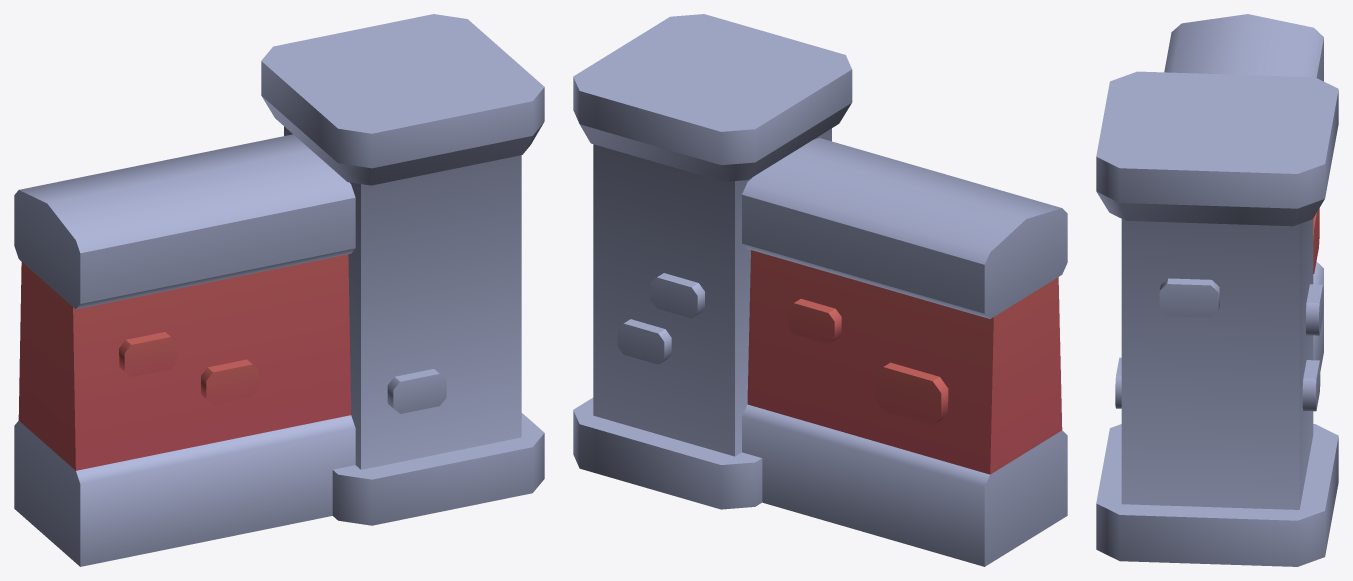
The model's file is brick-wall-end.004_lev2.glb.
3 views of the same model, side by side, from view 1: azimuth 30°, elevation 25°; view 2: azimuth 150°, elevation 25°; view 3: azimuth 270°, elevation 25° (orthographic). The views are drawn at different scales.
Visible parts, largest first — view 1: brick-wall-end.004_lev2; view 2: brick-wall-end.004_lev2; view 3: brick-wall-end.004_lev2.
Part boxes in pixels (x1,y1,x2,y2): brick-wall-end.004_lev2: (14,14,544,566); brick-wall-end.004_lev2: (573,14,1067,566); brick-wall-end.004_lev2: (1096,14,1338,566).
Bounding box in the file's own units: 8.18 × 6.8 × 3.8.
Materials: 1 (1 with a texture image).
